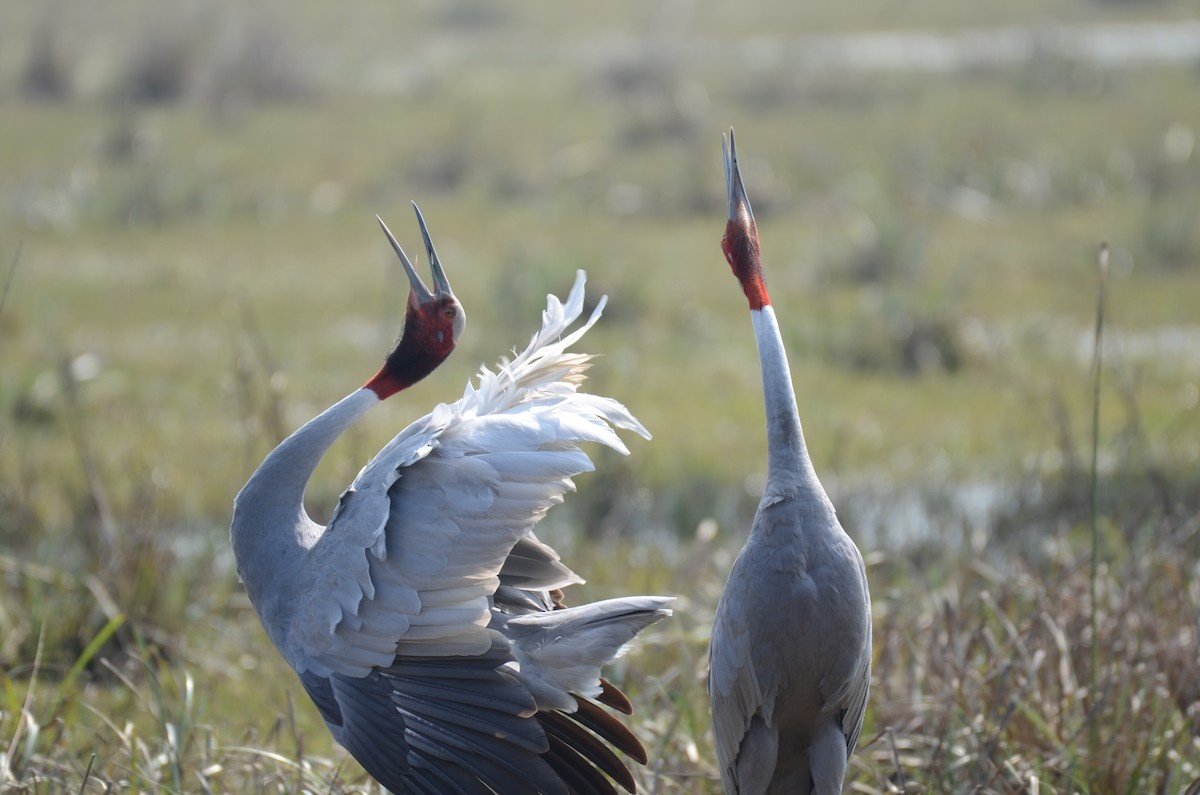crane: (233, 198, 670, 794), (709, 118, 883, 791)
